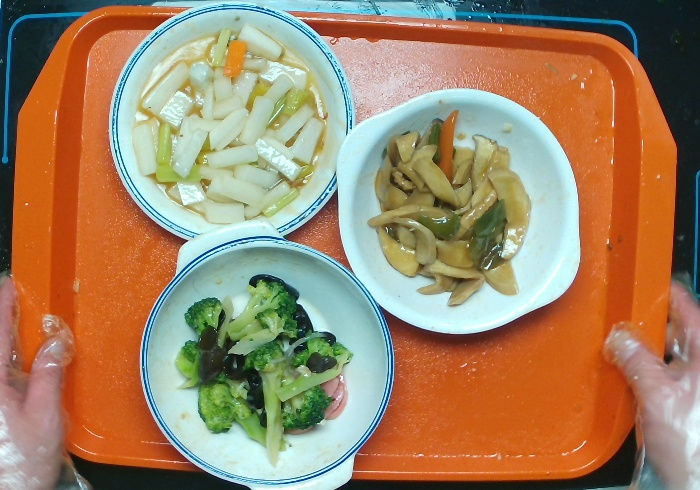HZYJPL-Dai_Er_Bai_Yuan_Wan: (332, 83, 589, 344)
HZYJPL-Lan_Bian_Dai_Er_Wan: (136, 217, 398, 488)
HZYJPL-Lan_Bian_Yuan_Die: (104, 1, 357, 246)
